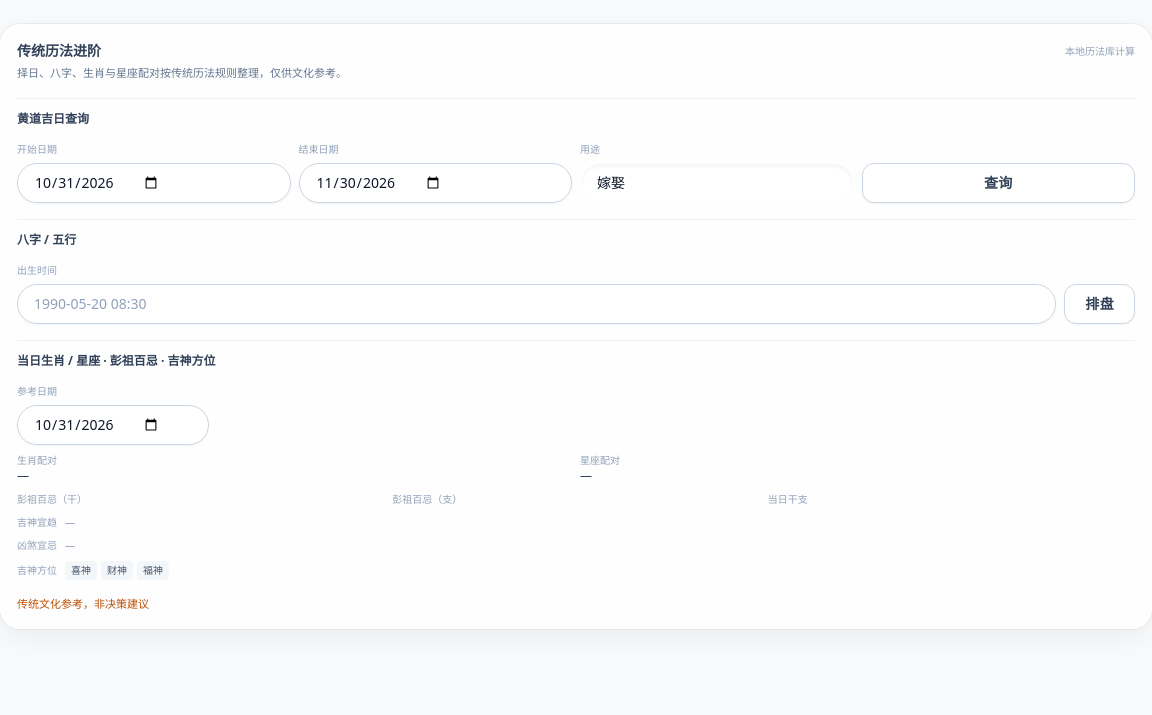
AlmanacAdvancedPanel (plan todo 150) › returns the pinned 嫁娶 dates for 2025-10-01..2025-10-10
Type "2025-10-01" into the date field labelled "开始日期". click: (154, 182)
box: [17,162,290,202]
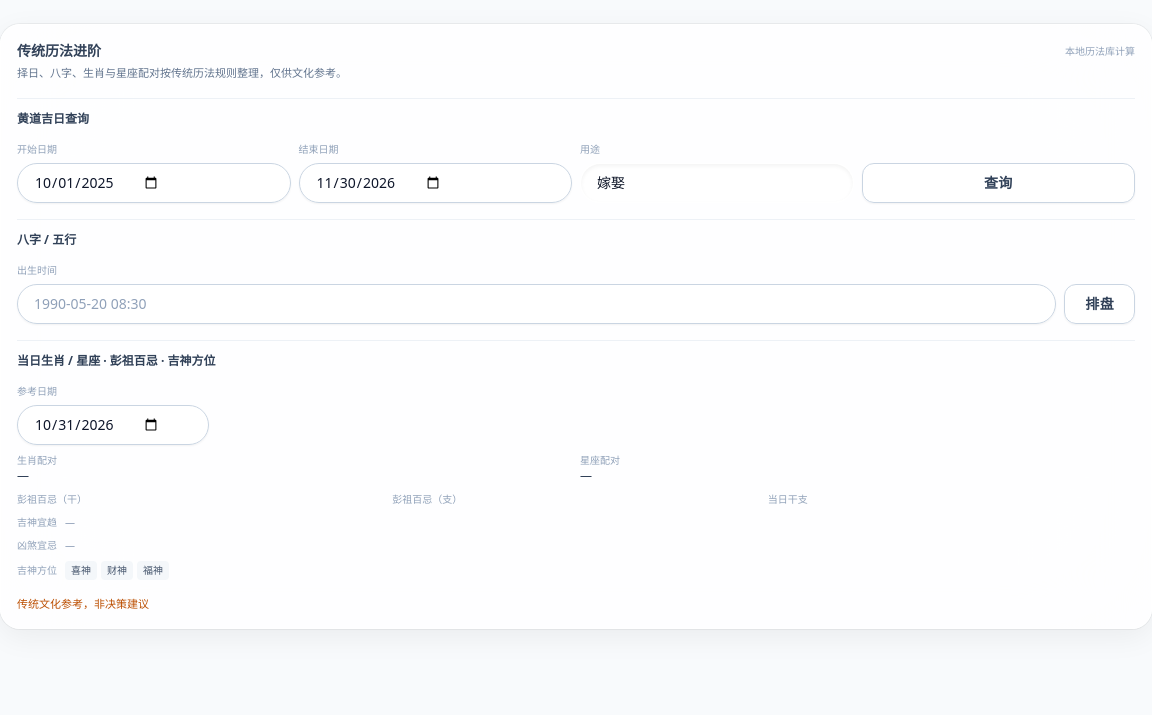
Type "2025-10-10" into the date field labelled "结束日期". click: (435, 182)
box: [298,162,572,202]
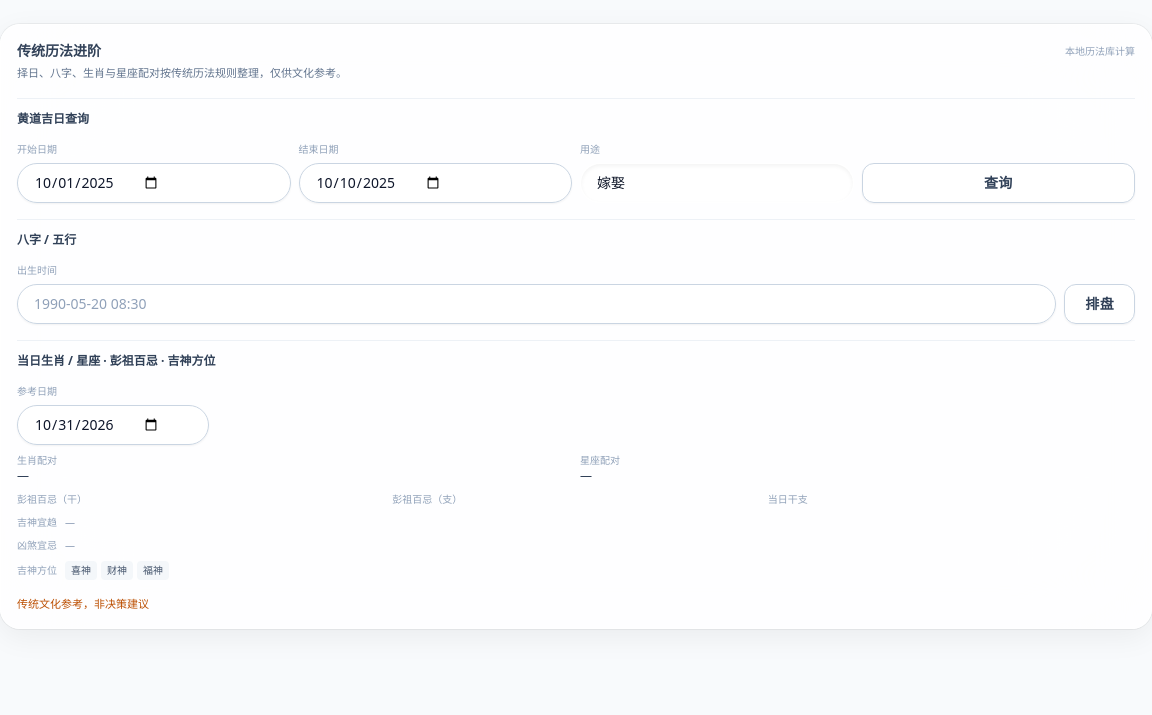
Select "嫁娶" in the dropdown labelled "用途". click: (717, 182)
box: [580,162,854,202]
Click the button "查询". click: click(998, 182)
box: [862,162,1135,202]
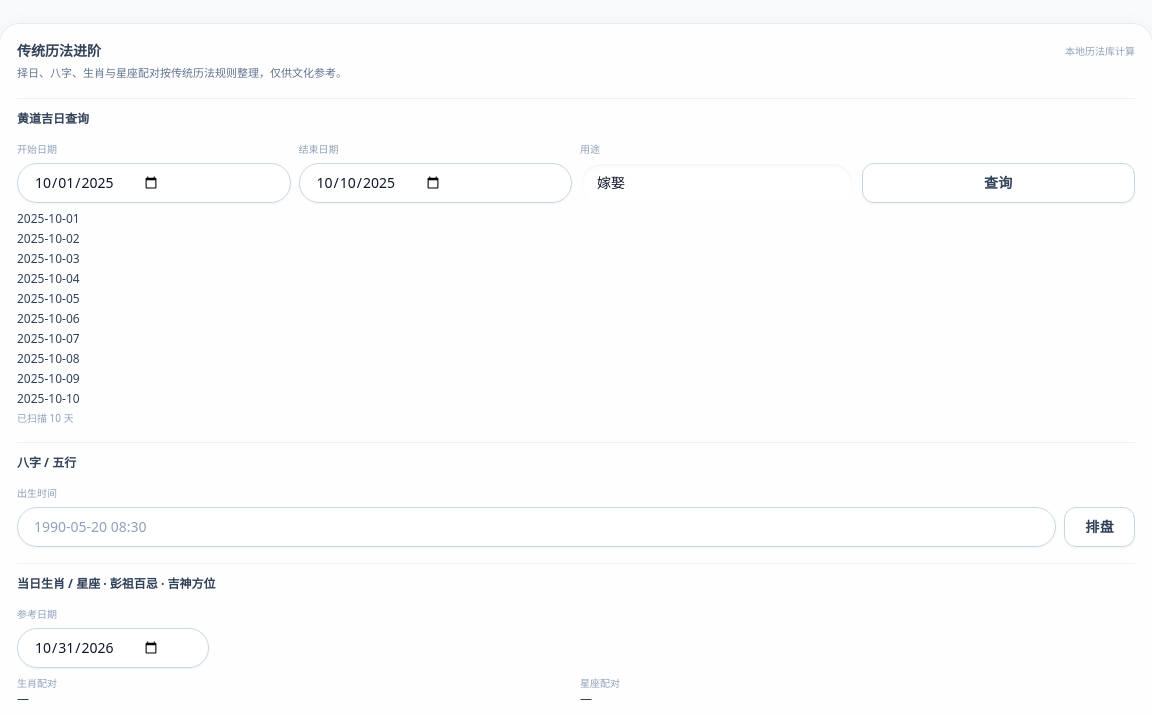
Expected: the element with test id "auspicious-results" shows "2025-10-02", [17,230,80,246]
Expected: the element with test id "auspicious-results" shows "2025-10-03", [17,250,80,266]
Expected: the element with test id "auspicious-results" shows "2025-10-08", [17,350,80,366]
